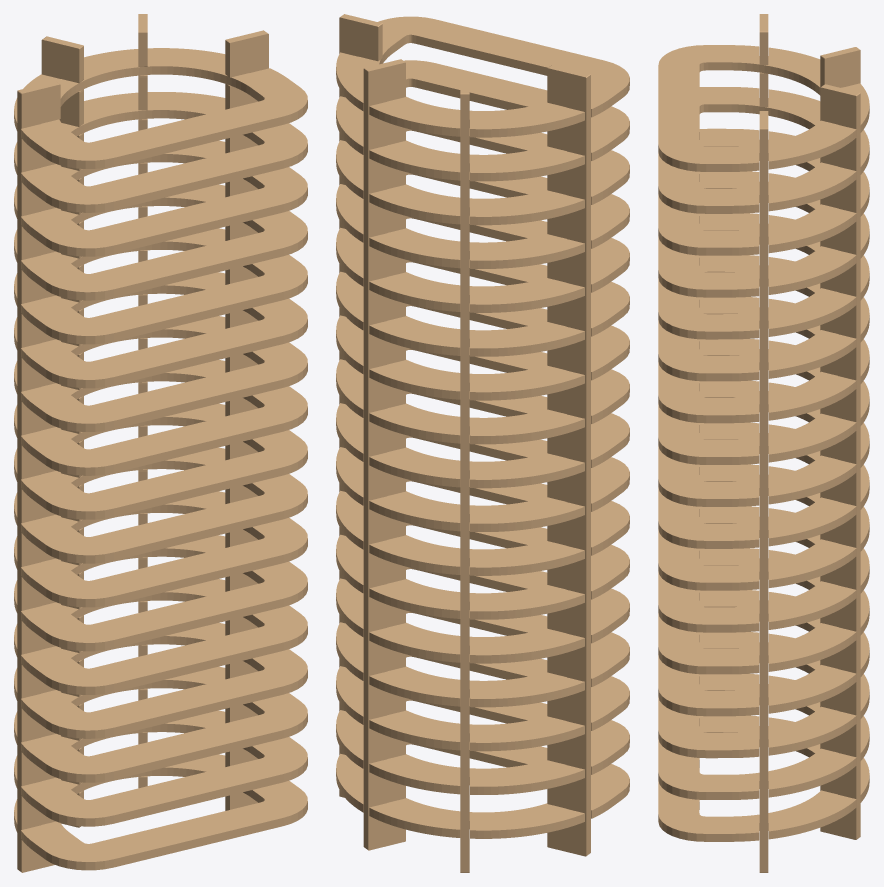
Rendered from samla.glb.
3 views of the same model, side by side, from view 1: azimuth 30°, elevation 25°; view 2: azimuth 150°, elevation 25°; view 3: azimuth 270°, elevation 25° (orthographic). The views are drawn at different scales.
Visible parts, largest first — view 1: slicer-lamellarbeid; view 2: slicer-lamellarbeid; view 3: slicer-lamellarbeid.
Part boxes in pixels (<box>): slicer-lamellarbeid: <box>14,14,307,872</box>; slicer-lamellarbeid: <box>336,14,629,872</box>; slicer-lamellarbeid: <box>658,14,869,872</box>.
Size of the model in its own units: 0.096 by 0.28 by 0.072.
